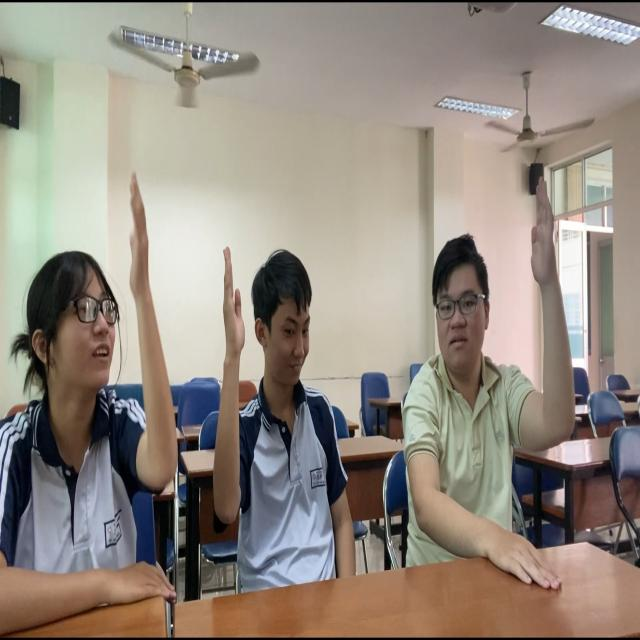raise_hand: (399, 163, 587, 616), (1, 163, 176, 640), (210, 168, 368, 614)
